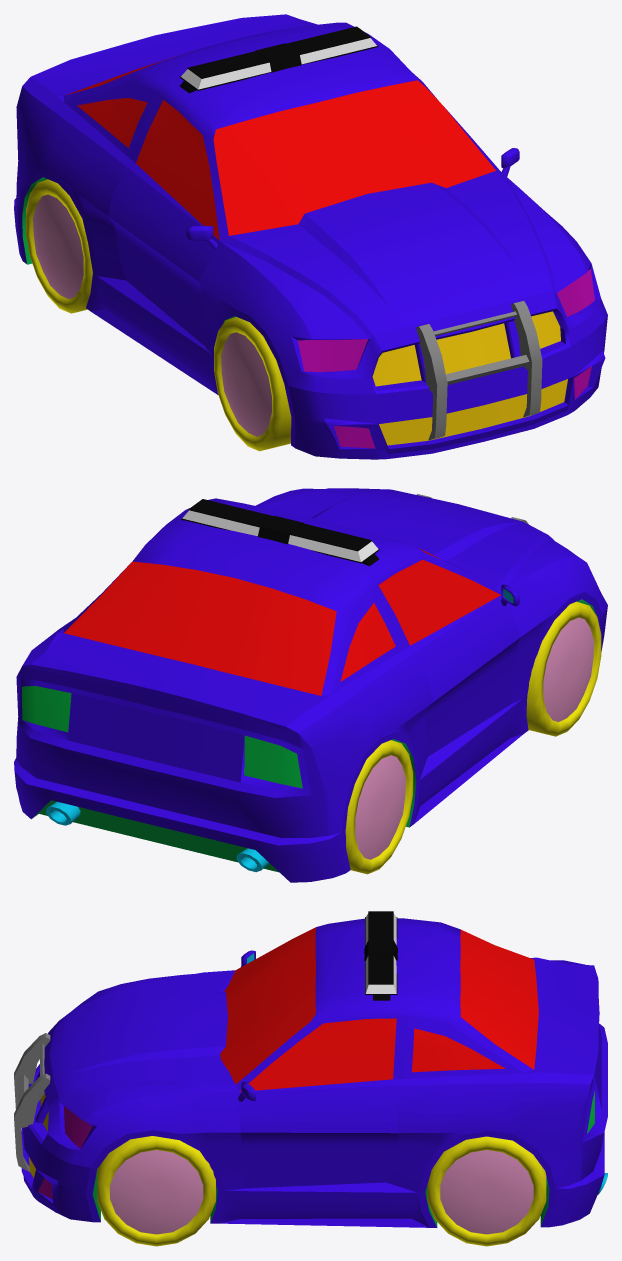
Rendered from 06_SteinBarracudaPolice_ColorCoded.fbx.
3 renders of one model, top to bottom at view 1: azimuth 30°, elevation 25°; view 2: azimuth 150°, elevation 25°; view 3: azimuth 270°, elevation 25°, orthographic. The views are drawn at different scales.
Parts seen in each view (by area): view 1: Body, tireFrontR, tireBackR, police_ram, police_light; view 2: Body, tireFrontR, tireBackR, police_light; view 3: Body, tireFrontL, tireBackL, police_light, police_ram.
Boxes of the visible parts, bbox=[...] form: Body: bbox=[14, 14, 607, 459]; tireFrontR: bbox=[214, 317, 291, 451]; tireBackR: bbox=[26, 179, 92, 313]; police_ram: bbox=[416, 301, 542, 440]; police_light: bbox=[179, 26, 378, 93]; Body: bbox=[14, 488, 607, 882]; tireFrontR: bbox=[526, 601, 601, 736]; tireBackR: bbox=[345, 740, 413, 874]; police_light: bbox=[181, 499, 379, 566]; Body: bbox=[21, 918, 607, 1227]; tireFrontL: bbox=[97, 1136, 215, 1246]; tireBackL: bbox=[427, 1136, 546, 1246]; police_light: bbox=[364, 911, 397, 1000]; police_ram: bbox=[14, 1033, 50, 1171].
Size of the model in its own units: 63.34 by 112 by 47.89.
